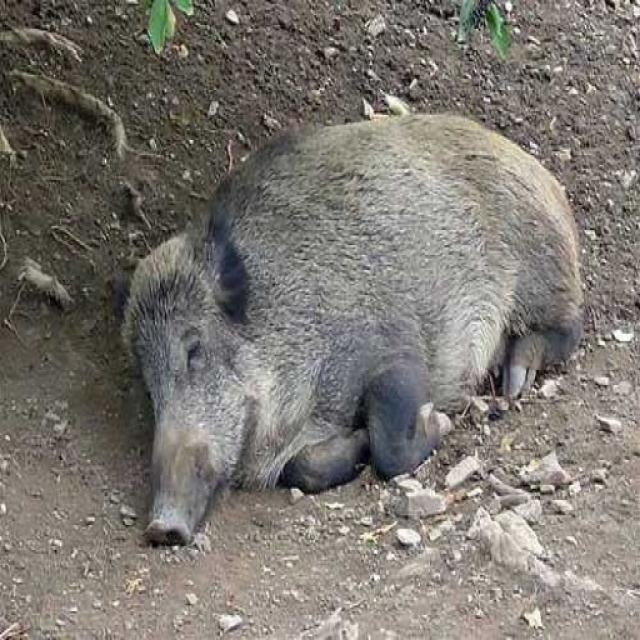pig: (117, 100, 634, 546)
